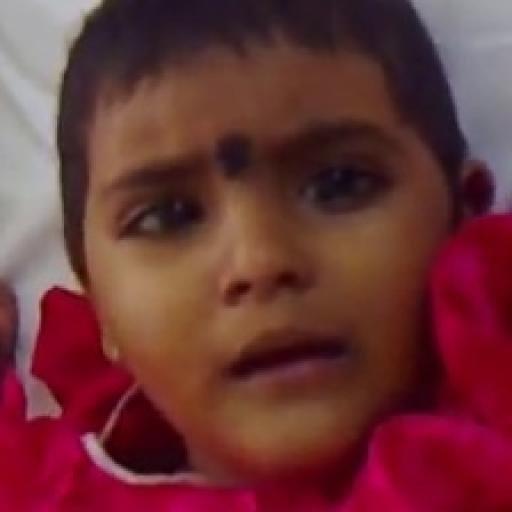Autism: (43, 7, 470, 483)
